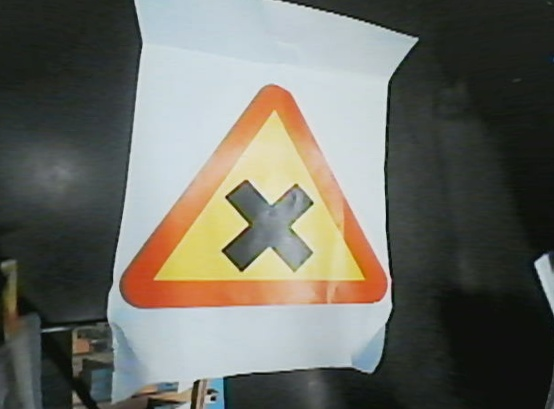junction: (113, 80, 391, 308)
